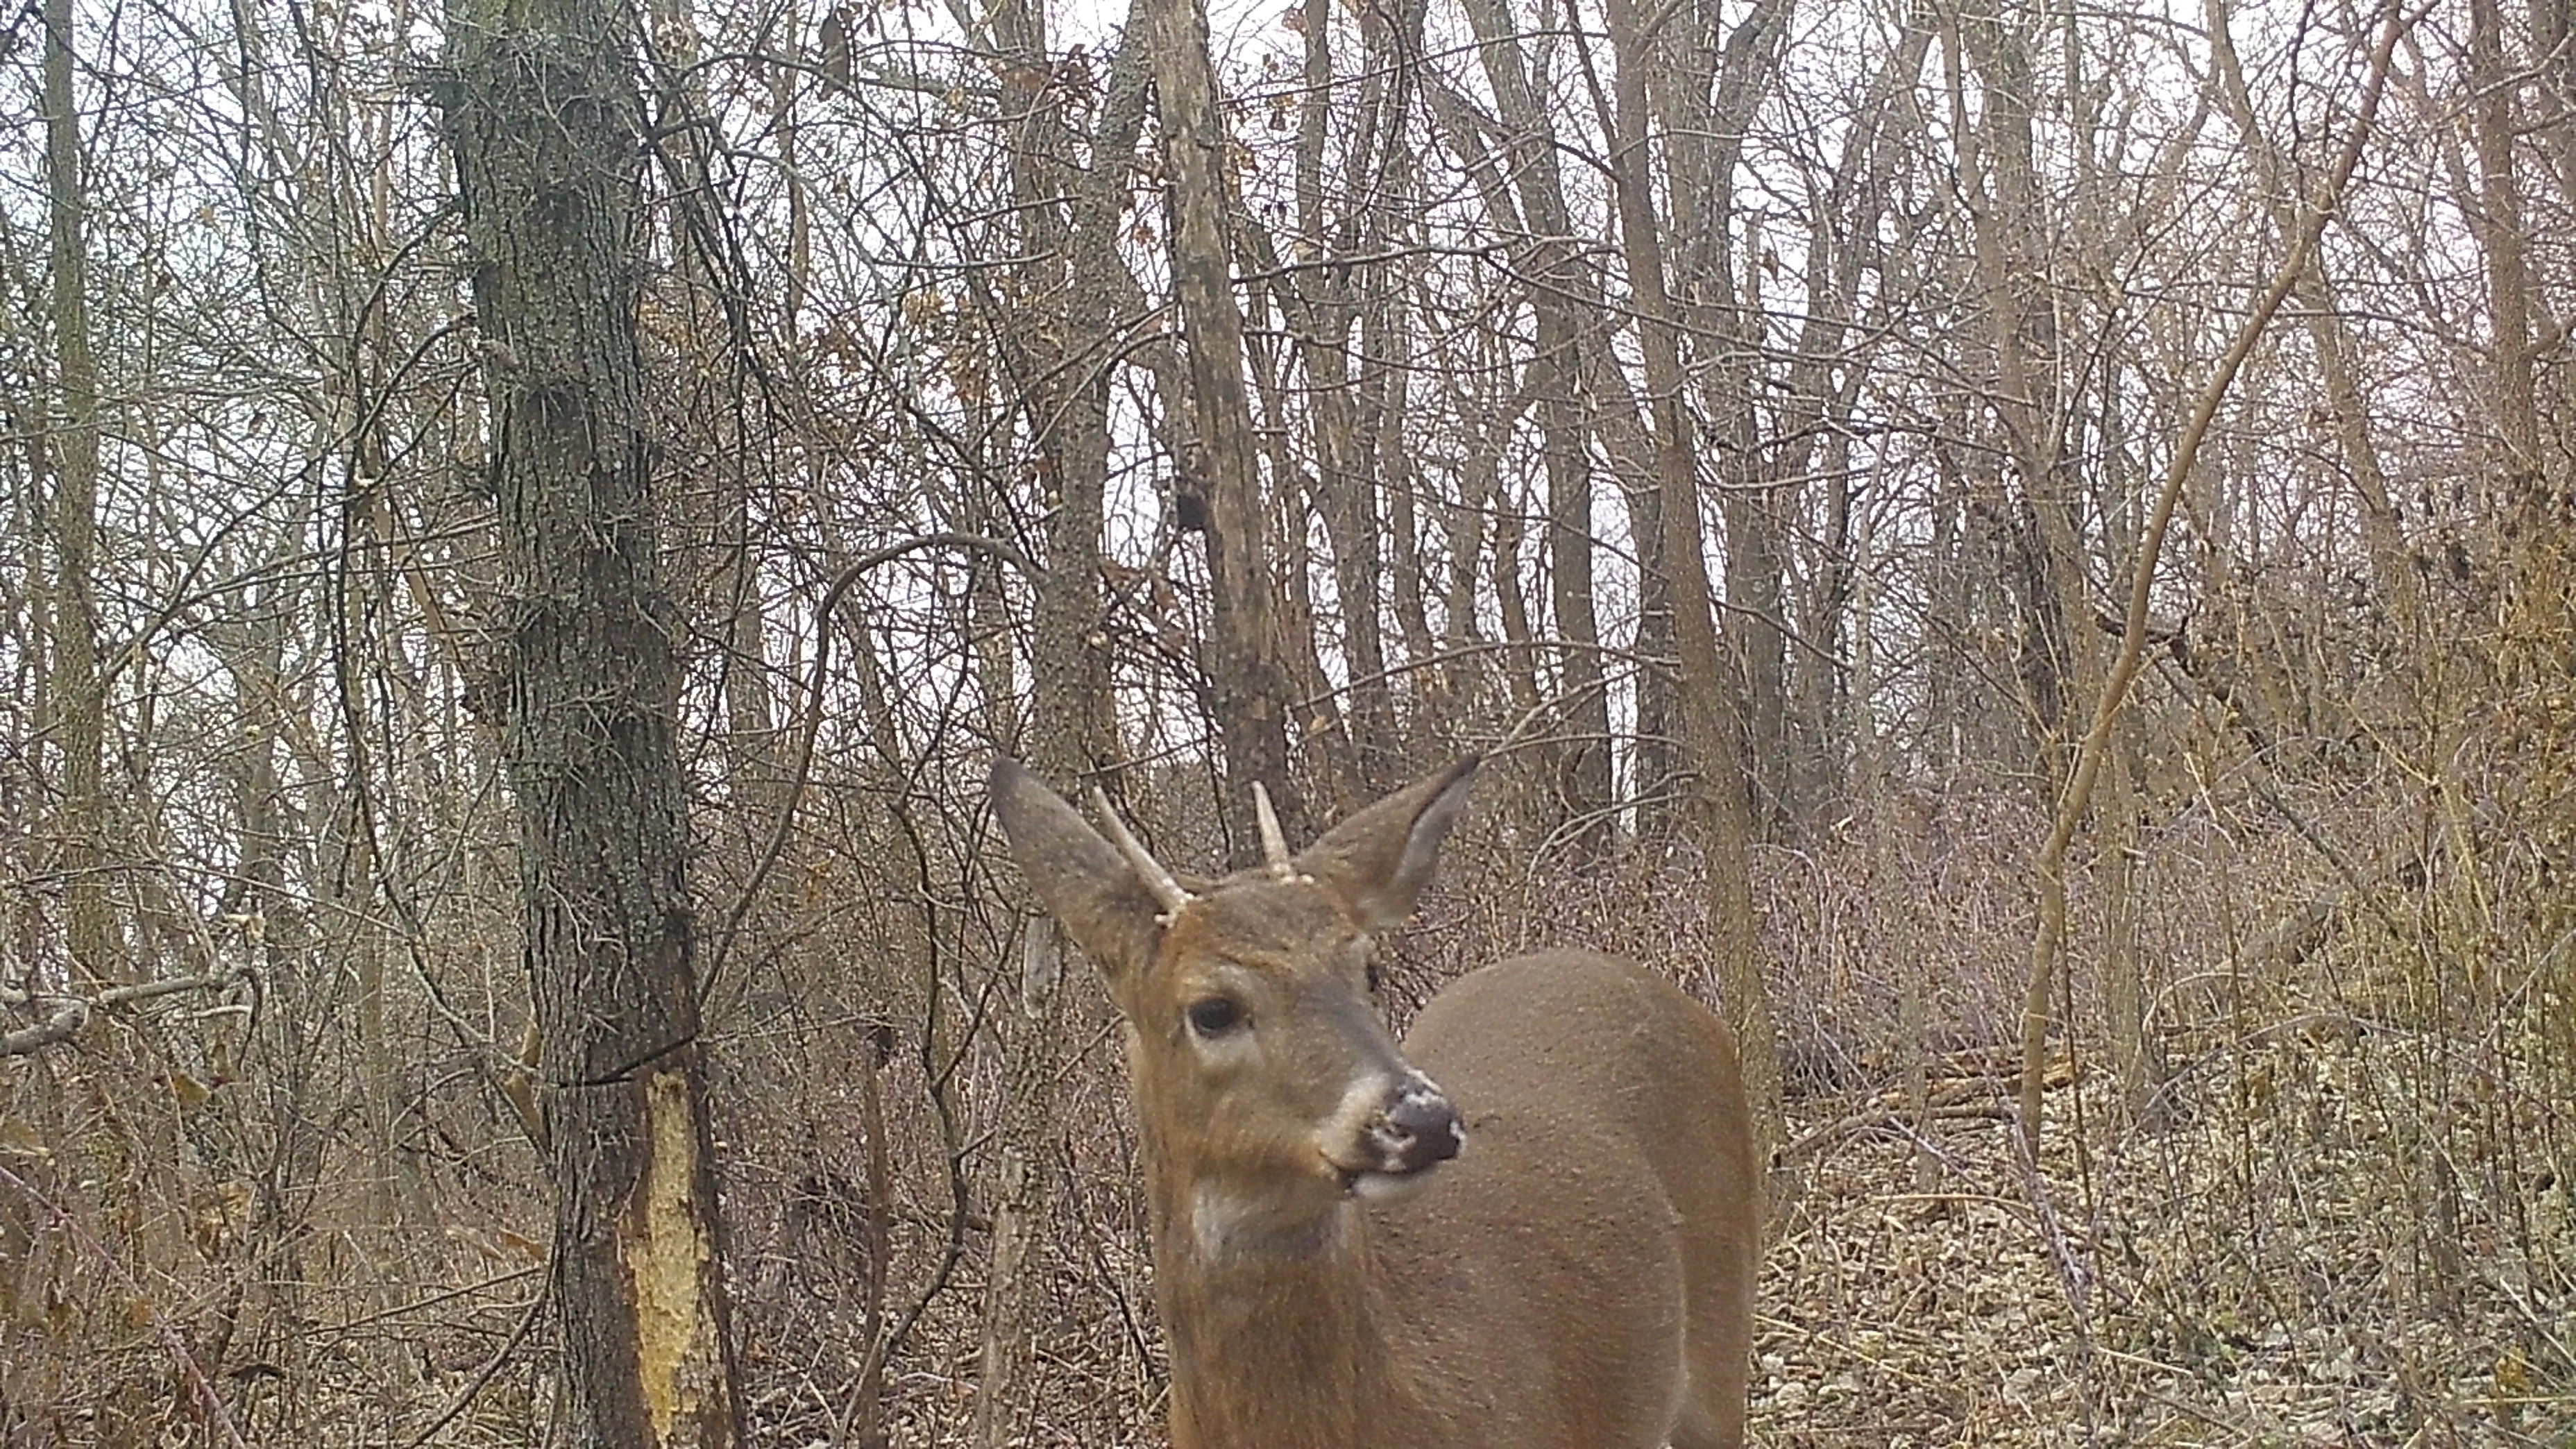DeerBuck: (981, 740, 1768, 1449)
DeerBuckHead: (984, 742, 1486, 1201)
